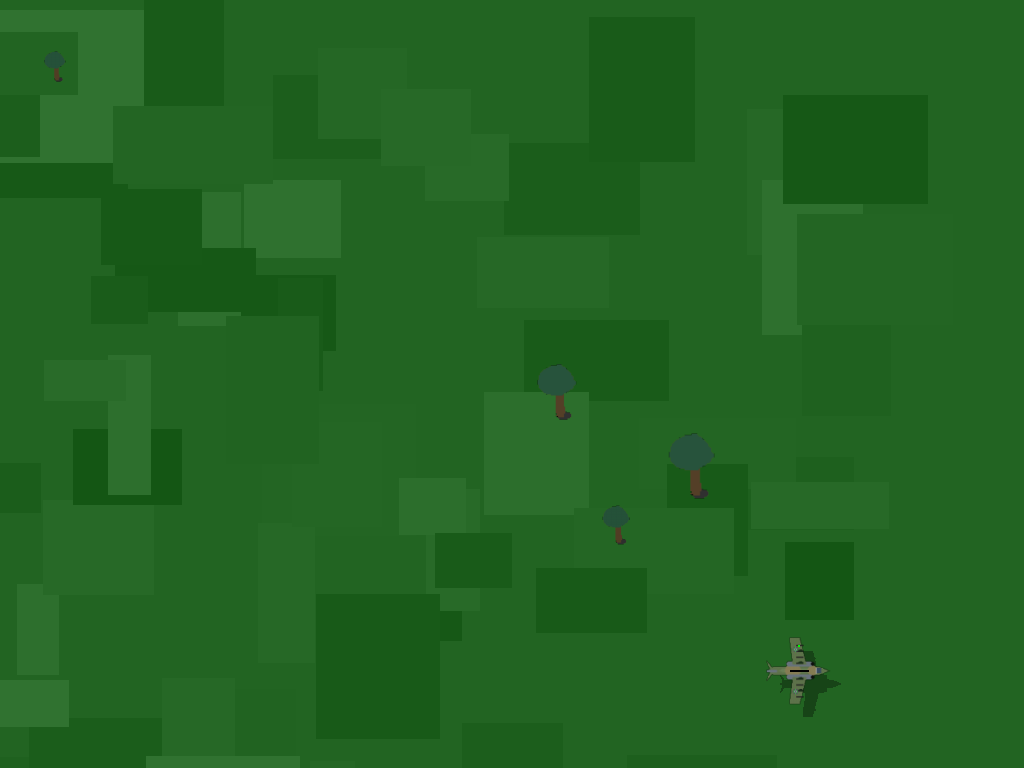LaserTurret: (776, 647, 804, 692)
